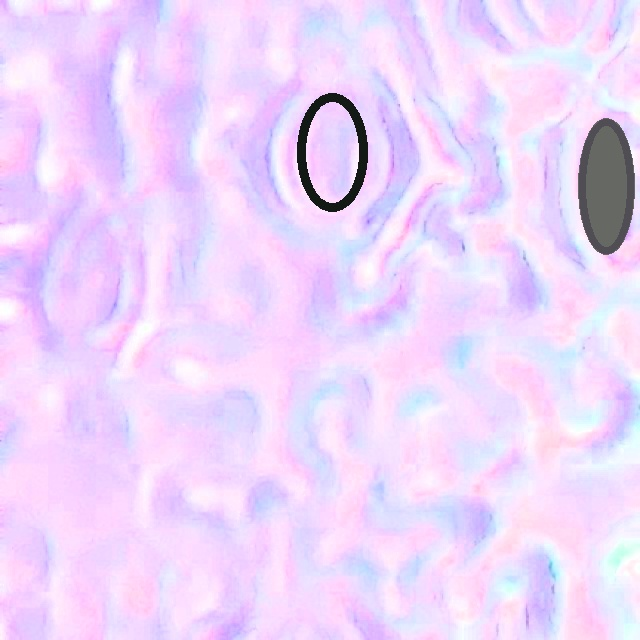close: (296, 92, 367, 212)
open: (579, 117, 634, 254)
